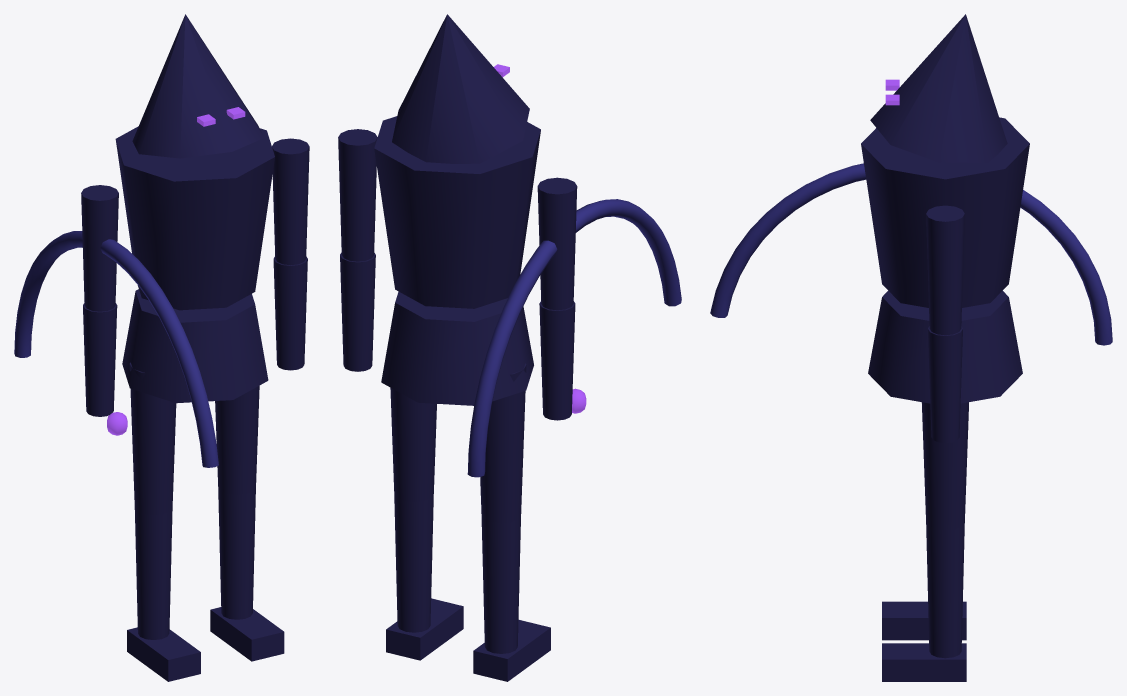
Rendered from void_archer.glb.
The picture shows the model from 3 angles, left to right: view 1: azimuth 30°, elevation 25°; view 2: azimuth 150°, elevation 25°; view 3: azimuth 270°, elevation 25°; orthographic projection. The views are drawn at different scales.
Bounding box in the file's own units: 0.825 × 2.2 × 1.26.
